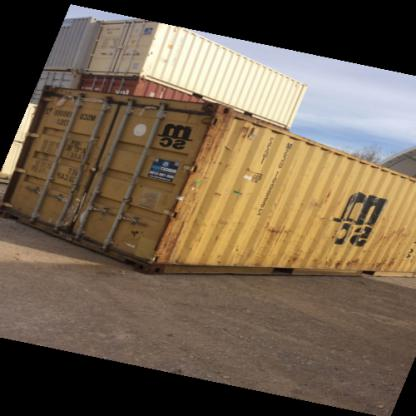Damage: (154, 200, 189, 259), (194, 107, 232, 160), (320, 246, 360, 276), (374, 226, 416, 250), (261, 217, 292, 242), (40, 82, 67, 103), (319, 188, 344, 206), (127, 223, 144, 244), (207, 217, 223, 239)
